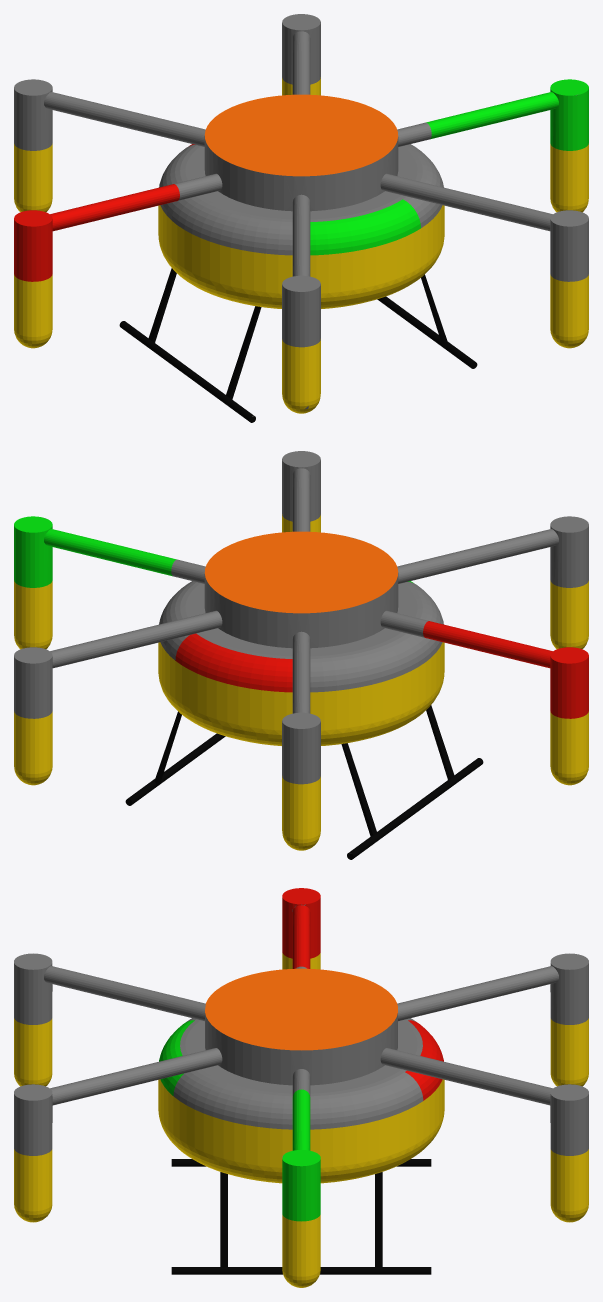
The model's file is PLACE_mockup_coloured_2.dae.
3 views of the same model, one above another, from view 1: azimuth 30°, elevation 25°; view 2: azimuth 150°, elevation 25°; view 3: azimuth 270°, elevation 25° (orthographic).
Visible parts, largest first — view 1: PLACE_sim_mockup; view 2: PLACE_sim_mockup; view 3: PLACE_sim_mockup.
Boxes of the visible parts, x1,y1,x2,y2 form: PLACE_sim_mockup: [14, 14, 588, 422]; PLACE_sim_mockup: [14, 451, 588, 859]; PLACE_sim_mockup: [14, 888, 588, 1287].
Bounding box in the file's own units: 1.7 × 1.48 × 0.605.
